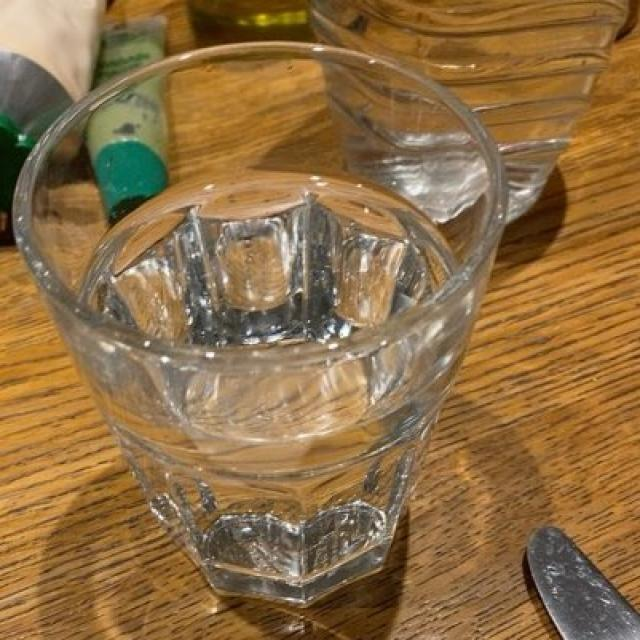water: (66, 168, 473, 615)
